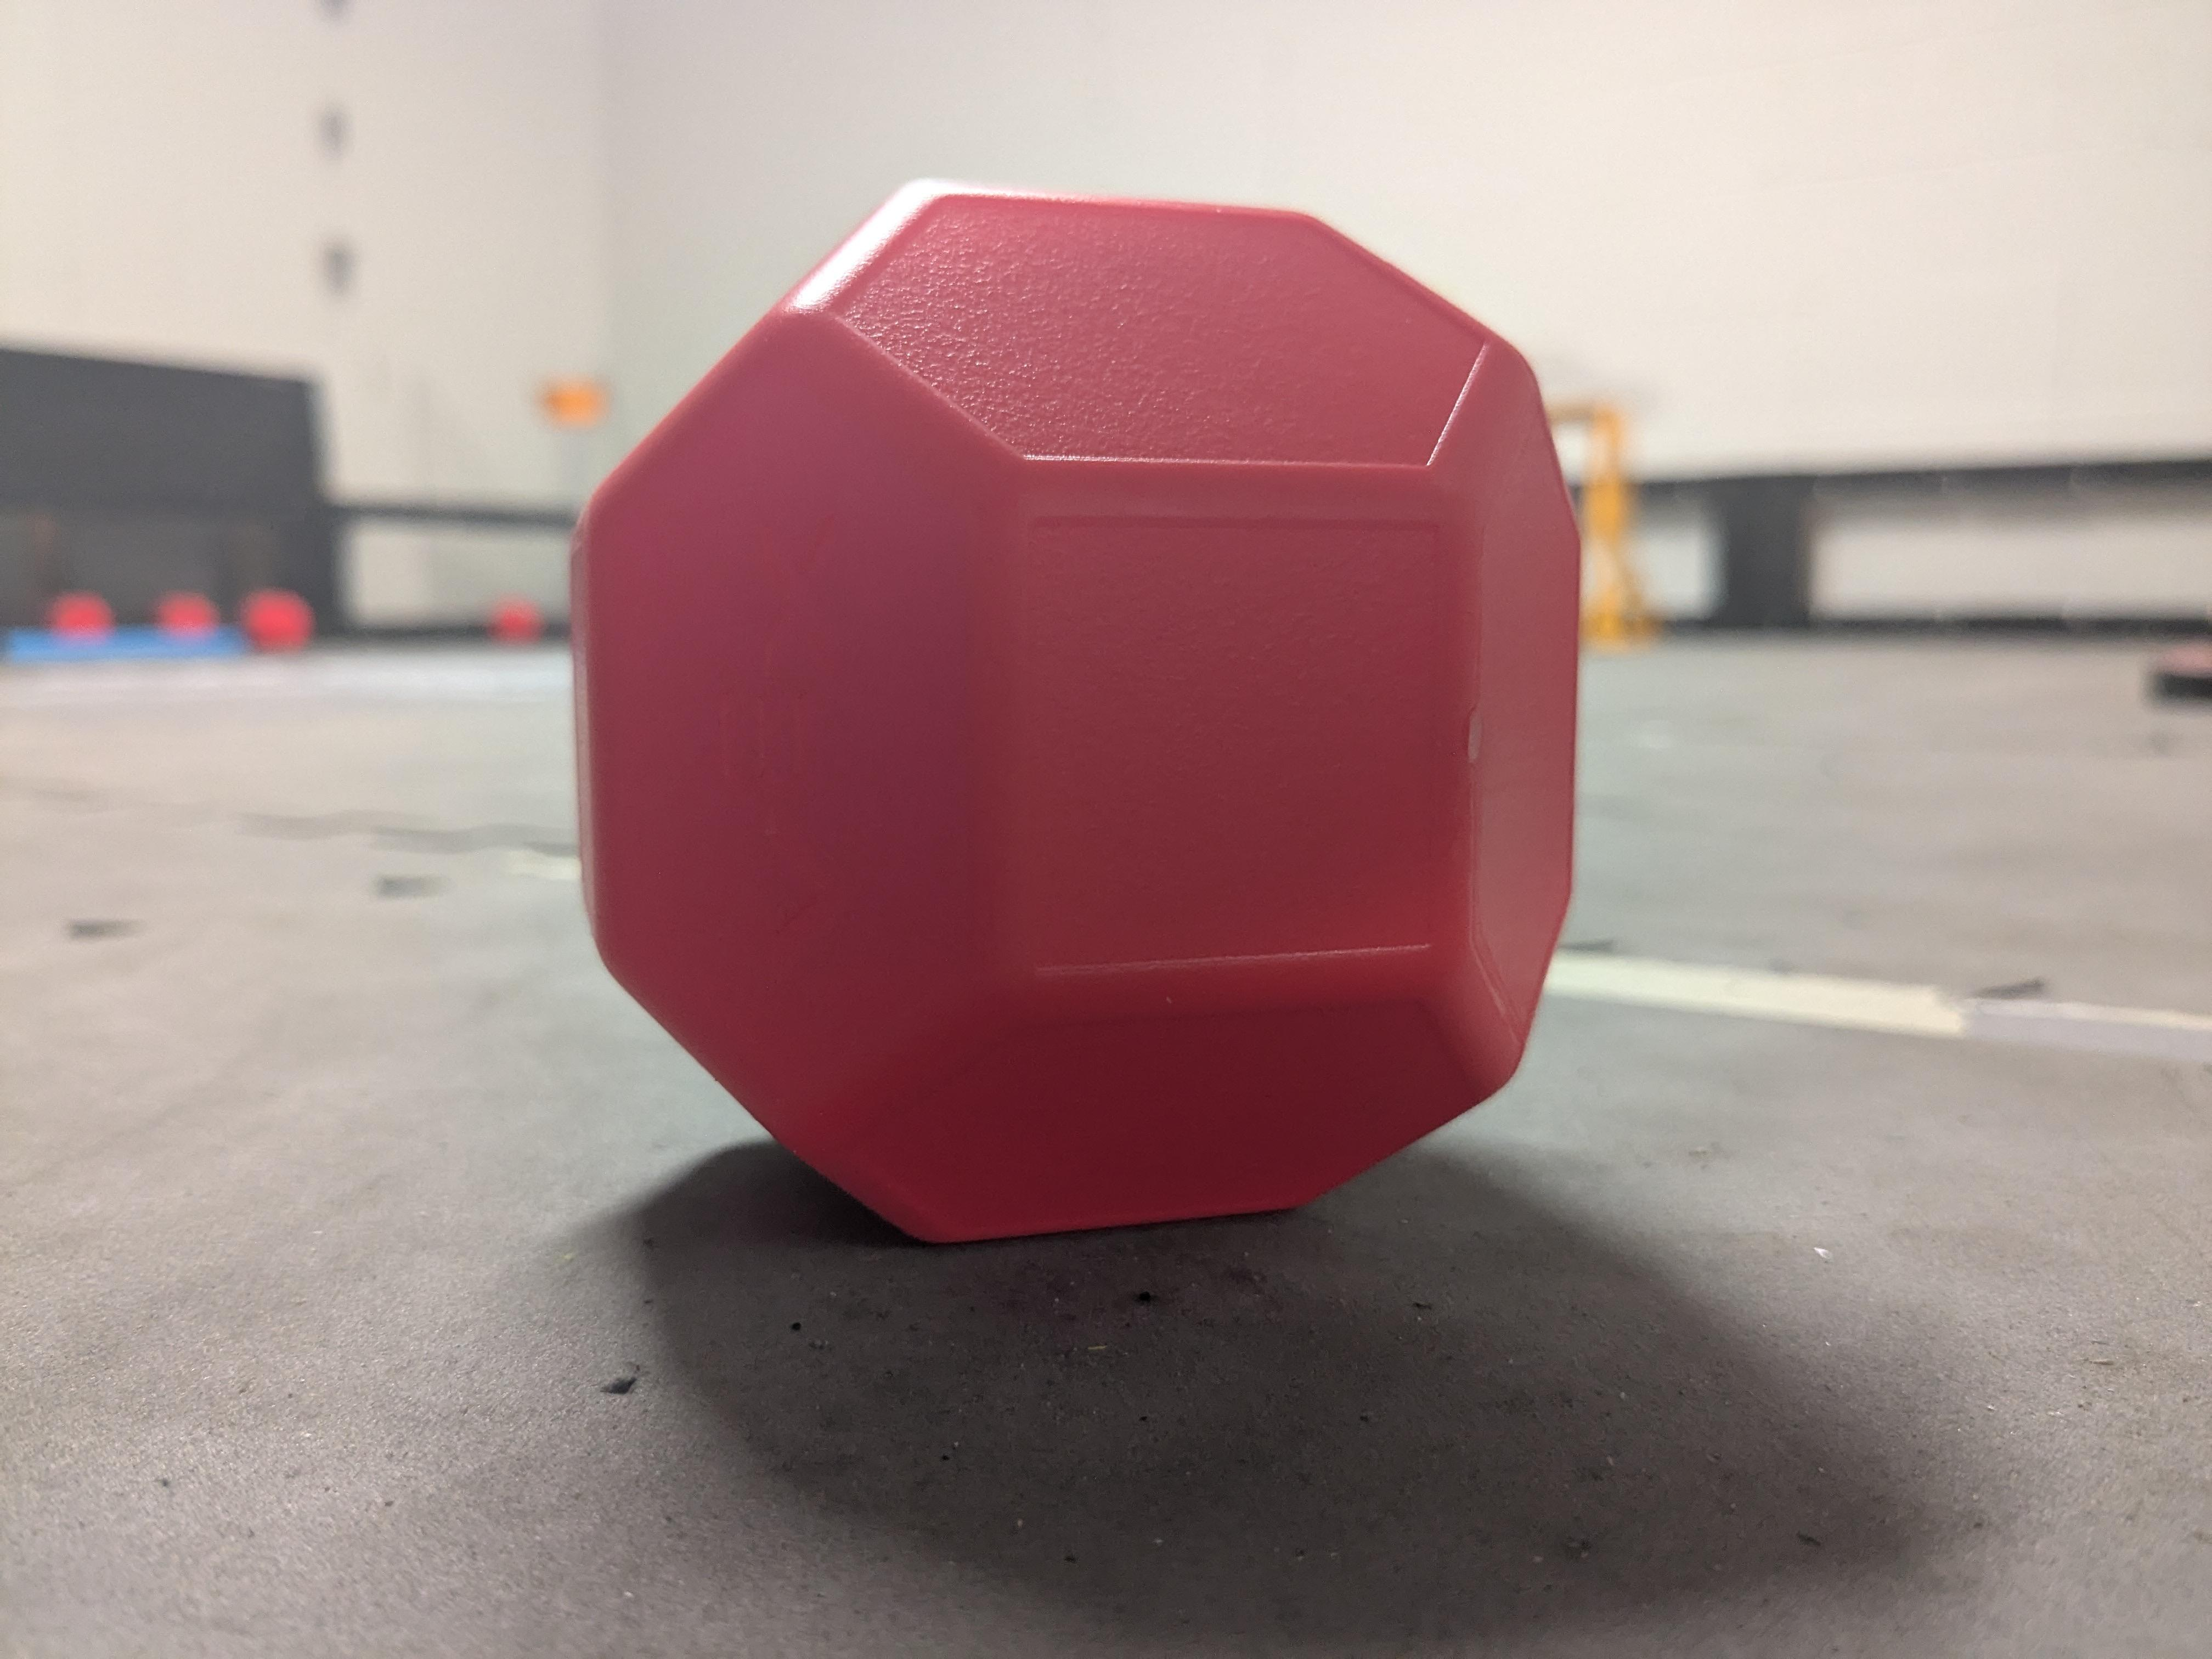Vex-Pieces-RED: (573, 190, 1576, 1241)
